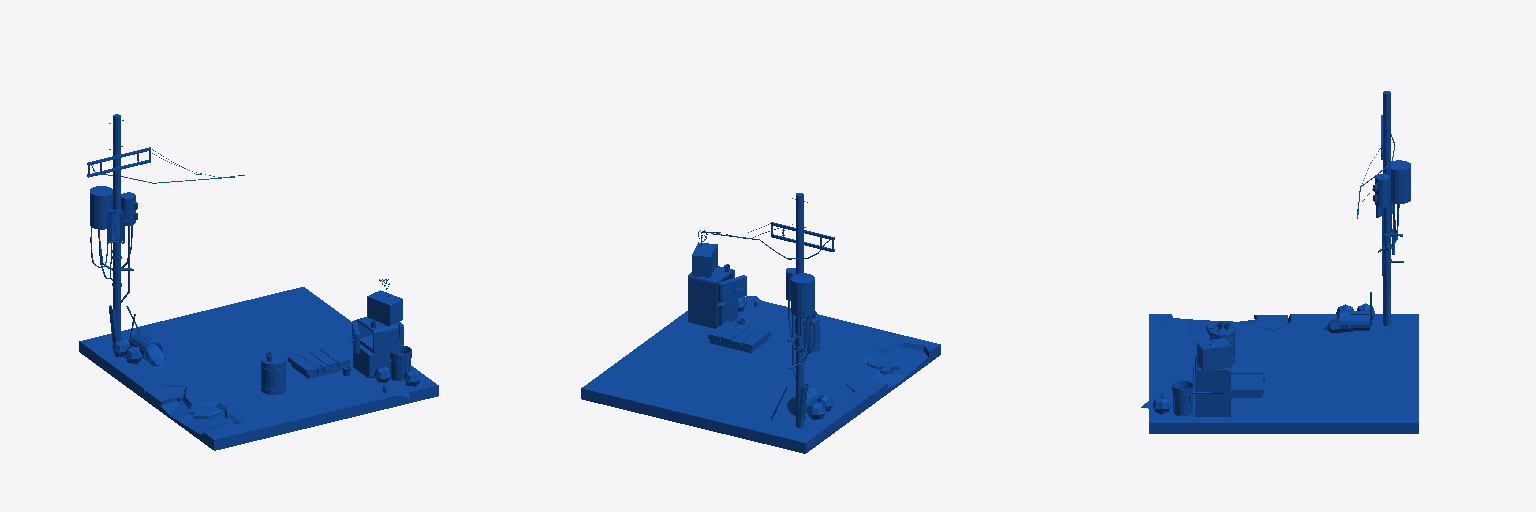
Rendered from HouseCar2_RazomUV_New.obj.
3 views of the same model, side by side, from view 1: azimuth 30°, elevation 25°; view 2: azimuth 150°, elevation 25°; view 3: azimuth 270°, elevation 25° (orthographic).
Visible parts, largest first — view 1: Box002; view 2: Box002; view 3: Box002.
Boxes of the visible parts, x1,y1,x2,y2 form: Box002: [79, 114, 438, 450]; Box002: [581, 193, 940, 453]; Box002: [1141, 91, 1418, 433].
Bounding box in the file's own units: 509 × 505 × 523.